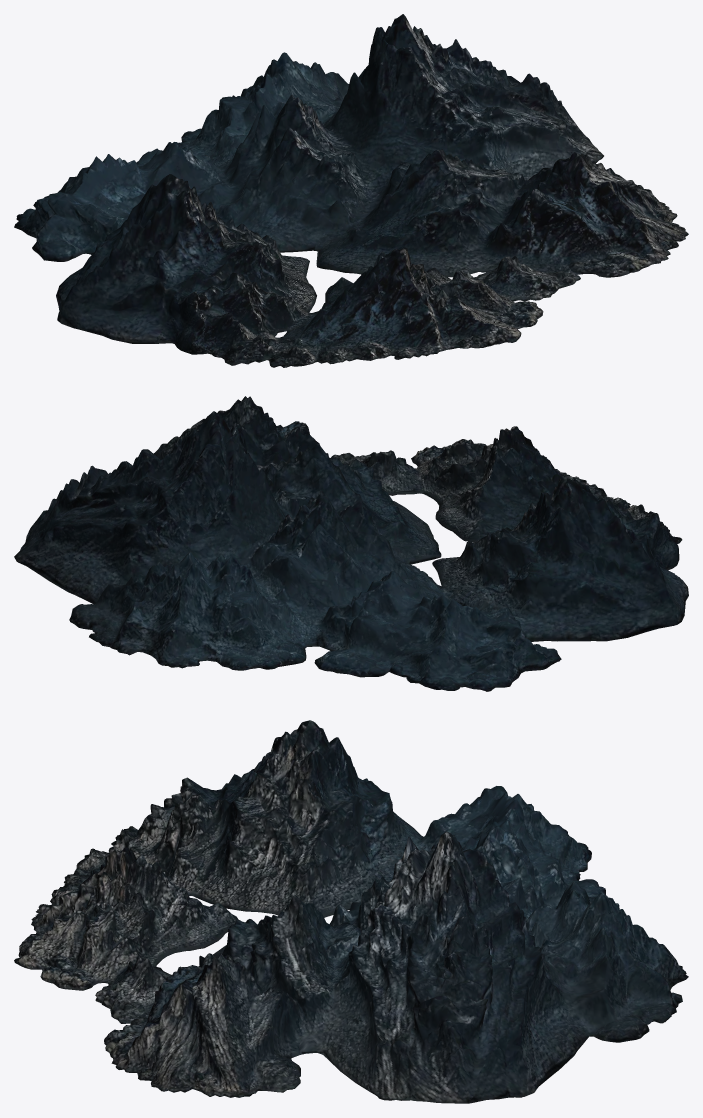
Rendered from mountains.glb.
The picture shows the model from 3 angles, top to bottom: view 1: azimuth 30°, elevation 25°; view 2: azimuth 150°, elevation 25°; view 3: azimuth 270°, elevation 25°; orthographic projection. The views are drawn at different scales.
Visible parts, largest first — view 1: mountains; view 2: mountains; view 3: mountains.
Part boxes in pixels (bbox=[...]): mountains: bbox=[14, 14, 688, 367]; mountains: bbox=[14, 396, 688, 691]; mountains: bbox=[14, 720, 688, 1103].
Bounding box in the file's own units: 0.9795 × 0.2608 × 0.8941.
1 material, 1 textured.
